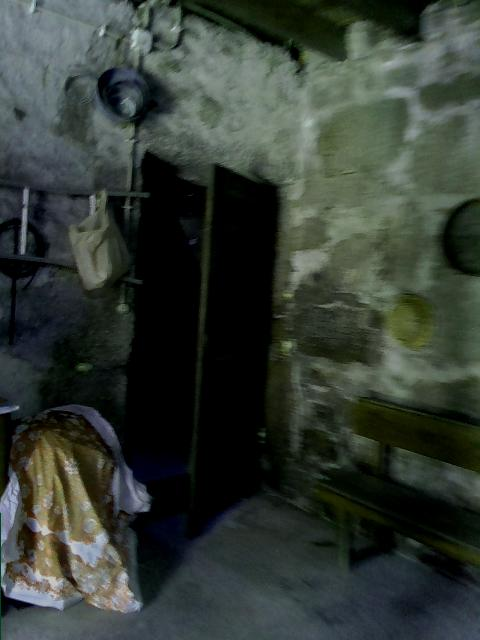semi_door: (127, 150, 278, 541)
